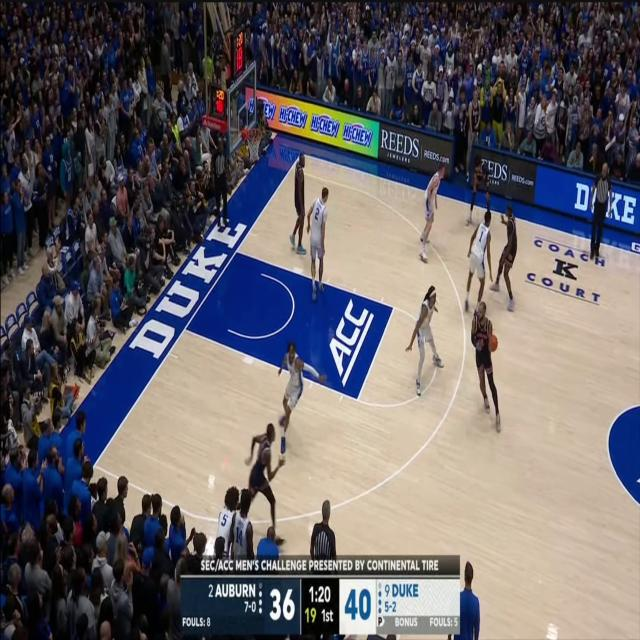basketball: (474, 316, 512, 368)
